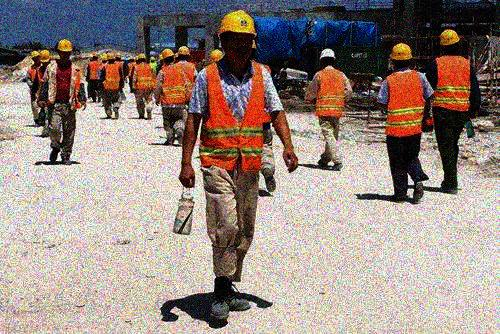helmet: (216, 10, 256, 62), (389, 41, 413, 70), (439, 29, 462, 55), (318, 47, 336, 69), (57, 39, 74, 62), (161, 49, 175, 65), (178, 45, 191, 61), (210, 49, 223, 64), (40, 50, 51, 66), (30, 50, 40, 63), (107, 52, 115, 65), (138, 52, 146, 64), (173, 52, 180, 63), (55, 54, 62, 62), (101, 55, 108, 63), (114, 53, 121, 61), (160, 55, 165, 66), (93, 52, 99, 60), (128, 55, 134, 63), (88, 54, 94, 61), (150, 56, 156, 63), (134, 55, 138, 63)
